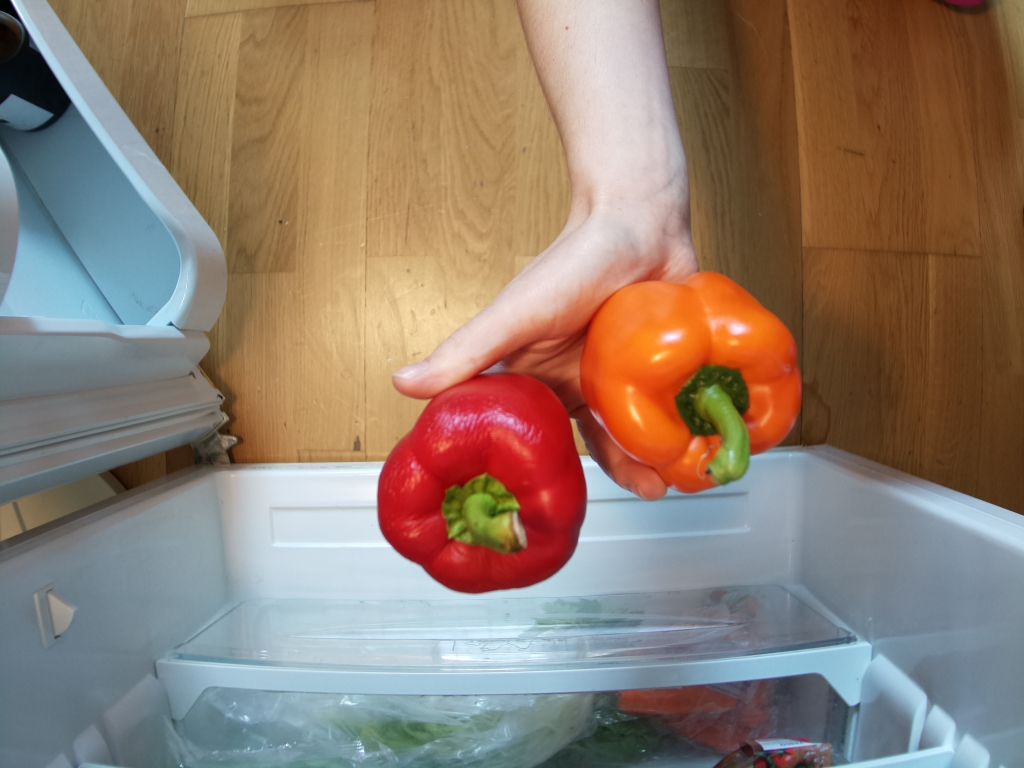pepper: (580, 270, 809, 491)
pepper-bad: (376, 374, 589, 595)
